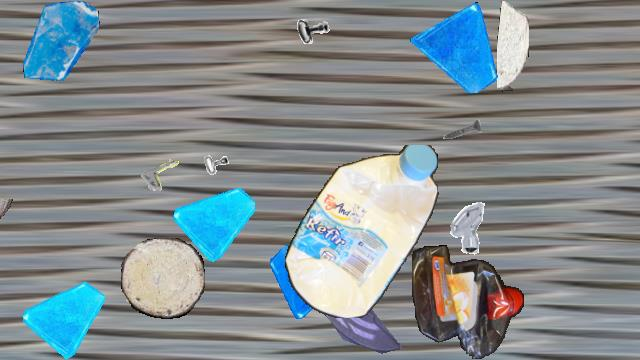glass: (410, 1, 502, 93), (317, 275, 401, 359), (23, 277, 105, 359), (173, 180, 255, 262), (21, 1, 101, 81), (270, 243, 346, 319)
metal: (137, 141, 197, 201), (436, 197, 494, 255), (191, 151, 241, 201), (441, 108, 483, 150), (293, 9, 333, 49)
plastic: (284, 145, 440, 317), (412, 245, 524, 359)
wood: (121, 238, 205, 318), (497, 1, 529, 91), (0, 199, 15, 239)
